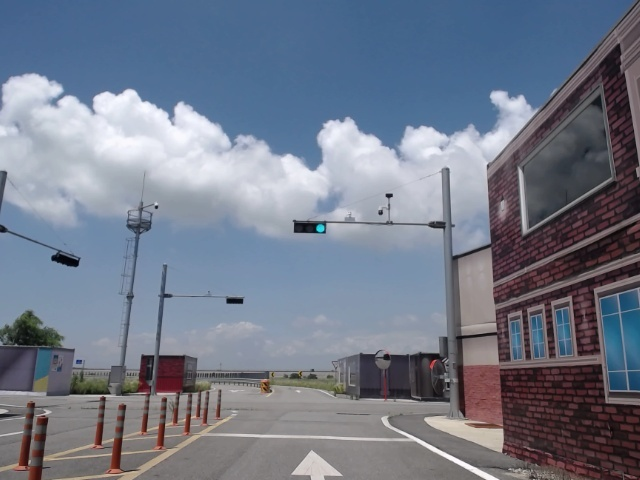green_3: (293, 222, 326, 232)
